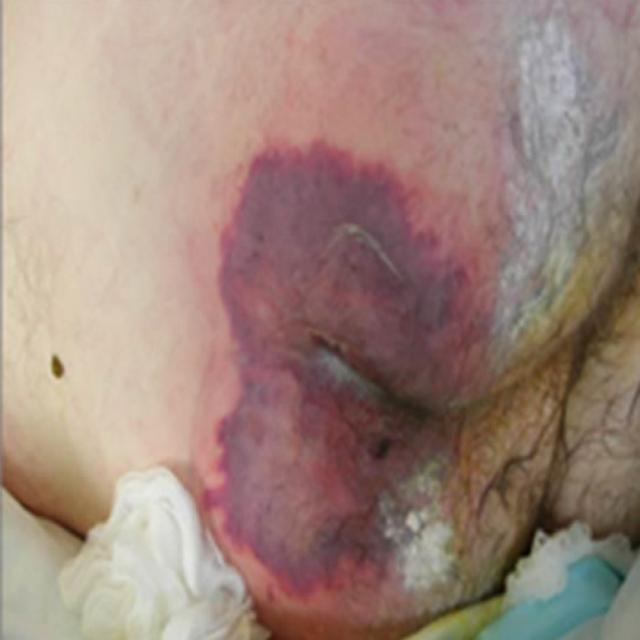DTI: (220, 145, 489, 590)
